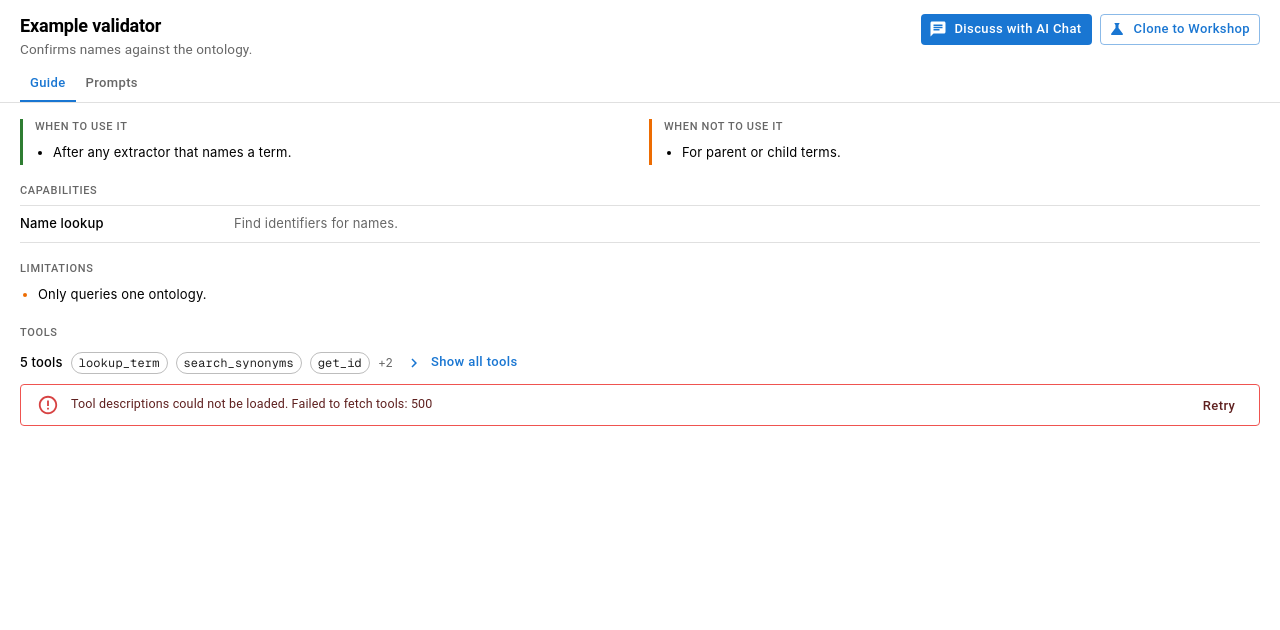
Test: AgentDetailsPanel › surfaces a tool inventory failure in the Tools section and retries on demand
Expected: the message shows "Tool descriptions could not be loaded. Failed to fetch tools: 500", [20, 384, 1260, 426]
Click the button "Show all tools".
click(462, 362)  # box [401, 347, 524, 378]
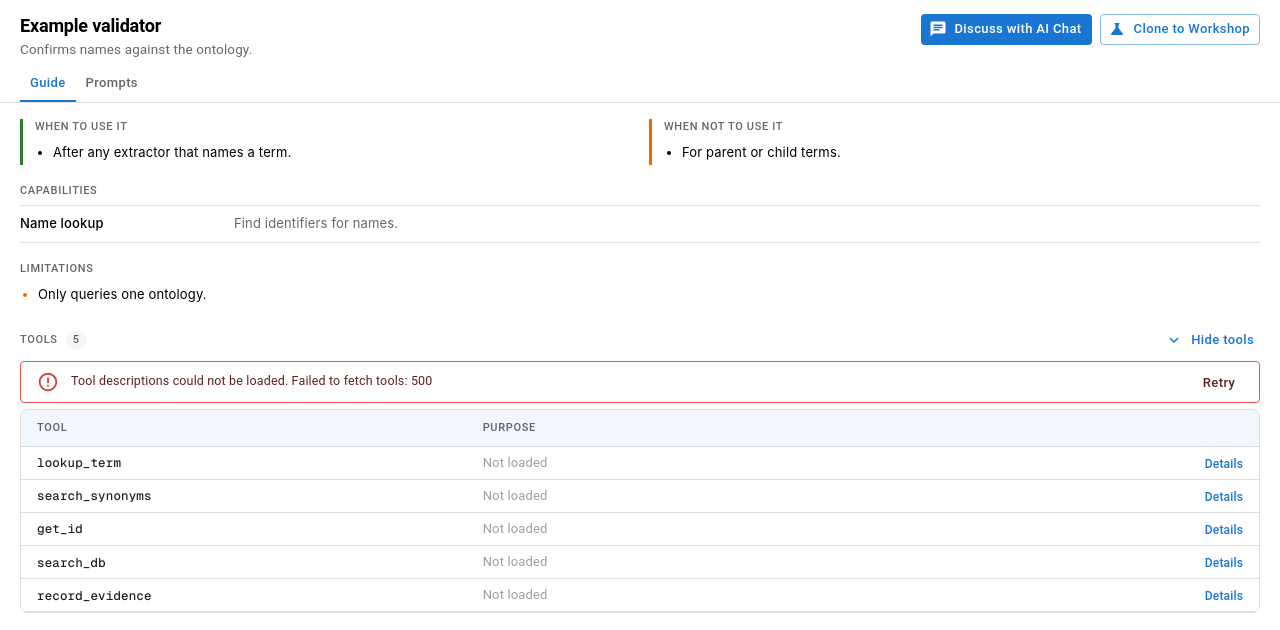
Expected: the text "No description yet" is not shown
Result: the text "Not loaded" is shown 5 times at [467, 447, 1171, 480]; [467, 480, 1171, 513]; [467, 513, 1171, 546]; [467, 546, 1171, 579]; [467, 579, 1171, 612]
Click the button "Retry".
click(1219, 384)  # box [1187, 368, 1251, 399]
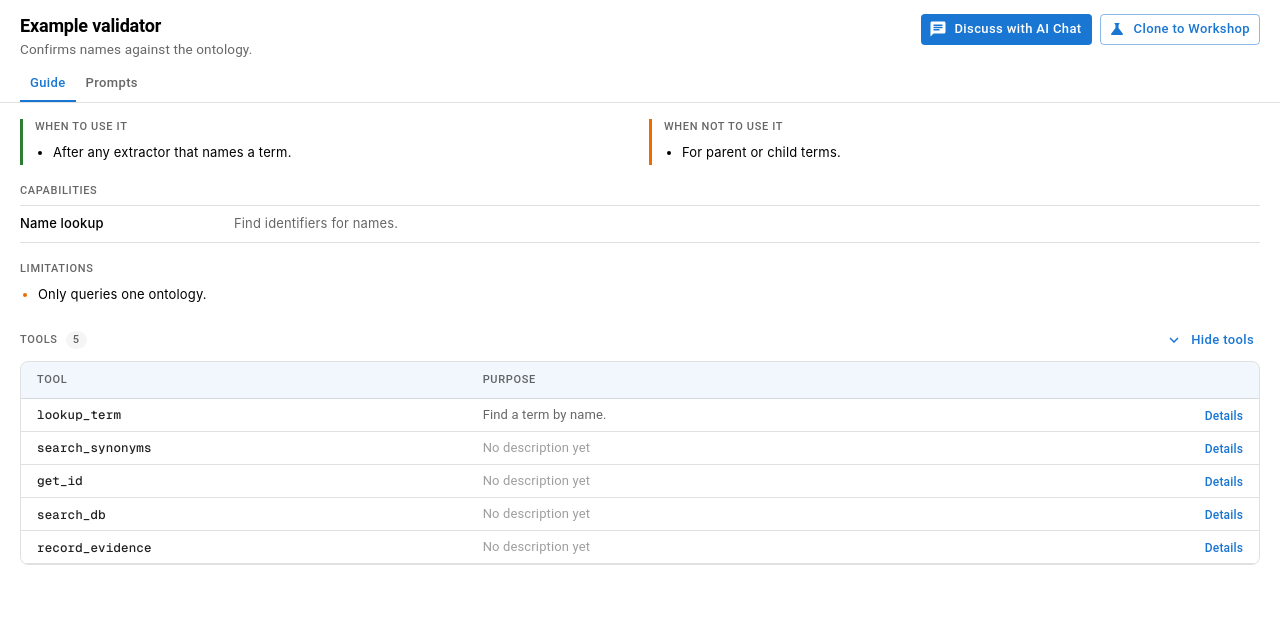
Result: the text "No description yet" is shown 4 times at [467, 432, 1171, 465]; [467, 465, 1171, 498]; [467, 498, 1171, 531]; [467, 531, 1171, 564]
Result: the message "Tool descriptions could not be loaded. Failed to fetch tools: 500 Retry" is gone
Result: the text "Find a term by name." is shown at [467, 399, 1171, 432]
